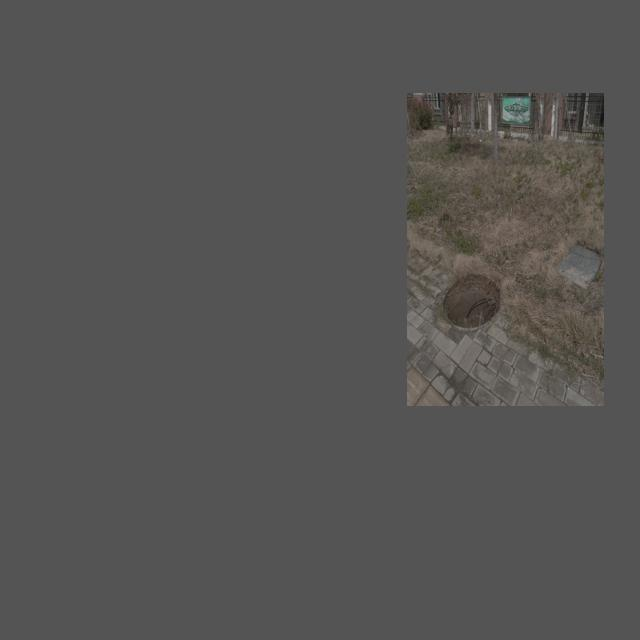lose: (440, 265, 501, 333)
